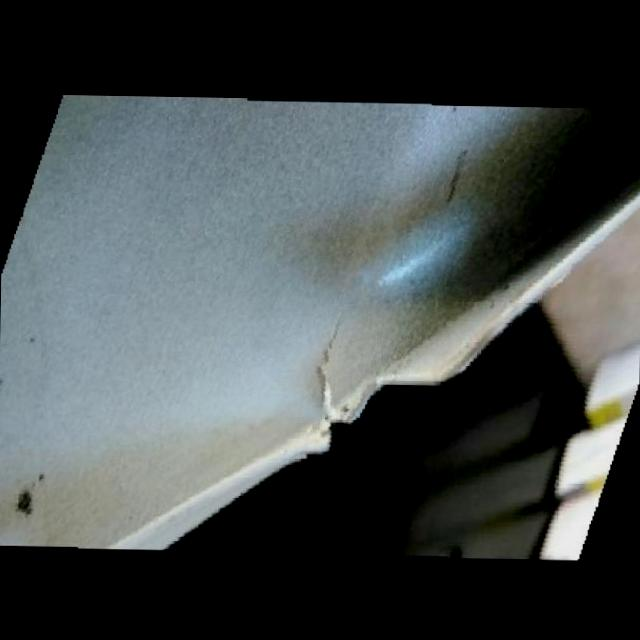crack: (315, 323, 337, 417)
